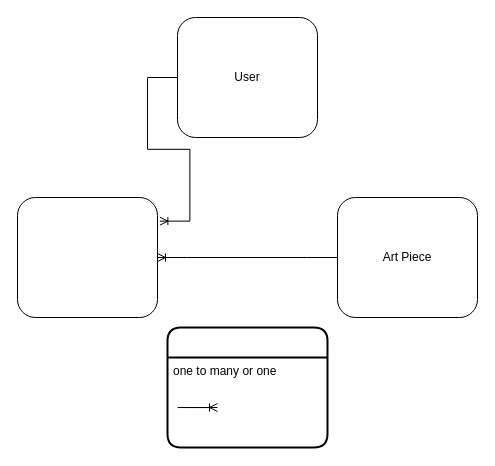
The diagram is 495 pixels wide and 466 high, and some of its shapes have lost their labels. Here are the shapes that lost their labels. From the top down, the box of each, then its label:
(16, 196, 158, 318): Comment (CRUD table)
(166, 326, 328, 448): Relationship
